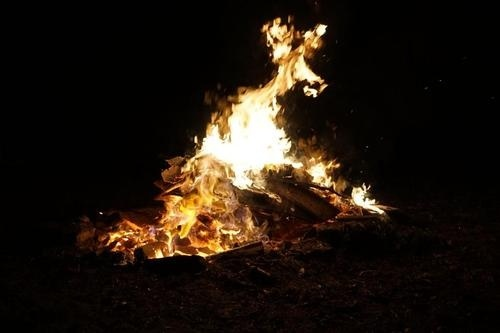fire: (144, 7, 381, 259)
